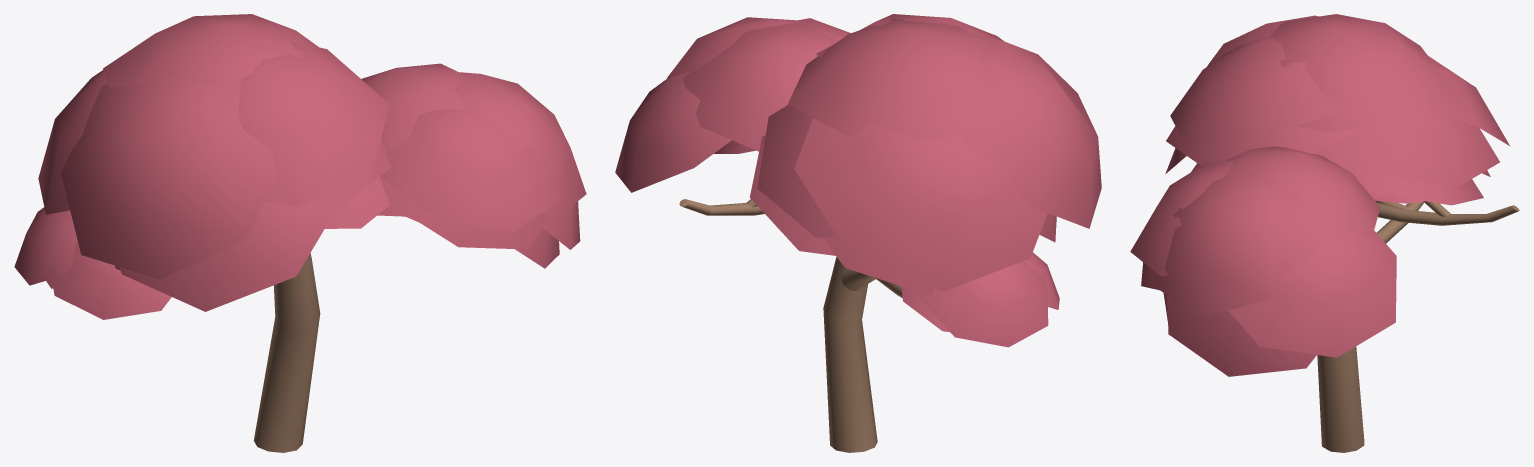
The model's file is Tree_9.glb.
The picture shows the model from 3 angles, left to right: view 1: azimuth 30°, elevation 25°; view 2: azimuth 150°, elevation 25°; view 3: azimuth 270°, elevation 25°; orthographic projection. The views are drawn at different scales.
Visible parts, largest first — view 1: Tree_9; view 2: Tree_9; view 3: Tree_9.
Boxes of the visible parts, bbox=[...] form: Tree_9: bbox=[14, 14, 586, 452]; Tree_9: bbox=[615, 14, 1101, 452]; Tree_9: bbox=[1130, 14, 1519, 452].
Bounding box in the file's own units: 6.36 × 5.49 × 4.94.
